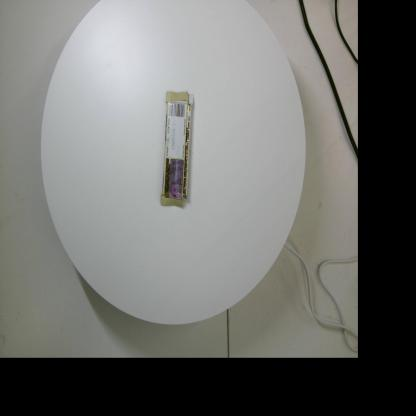Chocolate: (160, 91, 194, 207)
